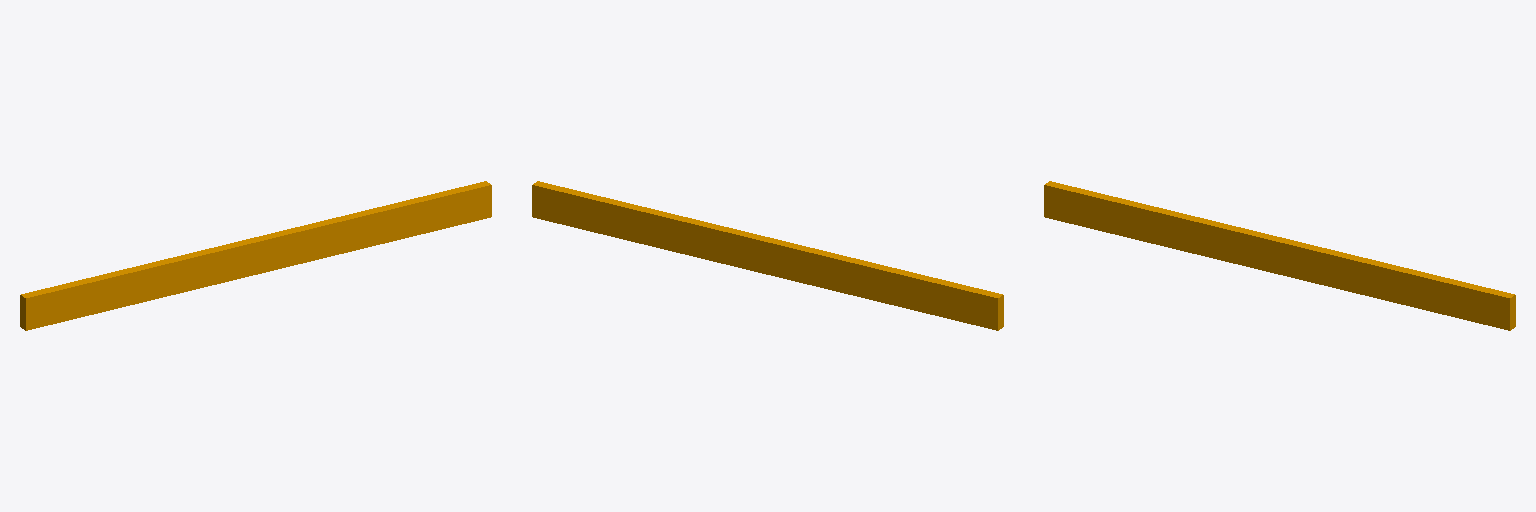
URDF robot description (simple_box):
<robot name="simple_box">
  <link name="my_box">
    <inertial>
      <origin xyz="0 0 0" />
      <mass value="1.0" />
      <inertia  ixx="1.0" ixy="0.0"  ixz="0.0"  iyy="100.0"  iyz="0.0"  izz="1.0" />
    </inertial>
    <visual>
      <origin xyz="0 0 0"/>
      <geometry>
        <box size="15 0.3 1.0" />
      </geometry>
    </visual>
    <collision>
      <origin xyz="0 0 0"/>
      <geometry>
        <box size="15 0.3 1.0" />
      </geometry>
    </collision>
  </link>
  <gazebo reference="my_box">
    <material>Gazebo/Grey</material>
  </gazebo>
</robot>

--- What the picture shows (computed from the rendered views, not written in the file) ---
3 views of the same robot in one strip: view 1: azimuth 30°, elevation 25°; view 2: azimuth 150°, elevation 25°; view 3: azimuth 330°, elevation 25° (orthographic).
Model simple_box with 1 links and 0 joints (none), rooted at my_box, posed every joint at zero.
Visible links, largest first — view 1: my_box; view 2: my_box; view 3: my_box.
Link boxes in pixels (<box>): my_box: <box>20,181,491,330</box>; my_box: <box>532,181,1003,330</box>; my_box: <box>1044,181,1515,330</box>.
Bounding box of the posed robot: 15 × 0.3 × 1 m (x, y, z).
Geometry: primitives only (box / cylinder / sphere), no mesh files.
